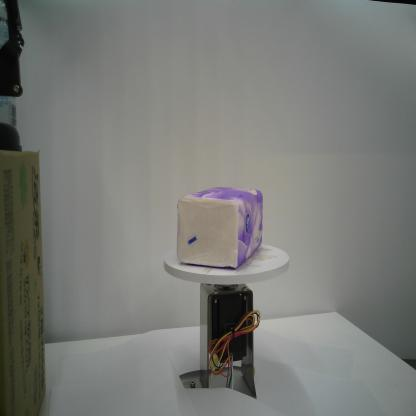Tissue: (174, 185, 264, 269)
